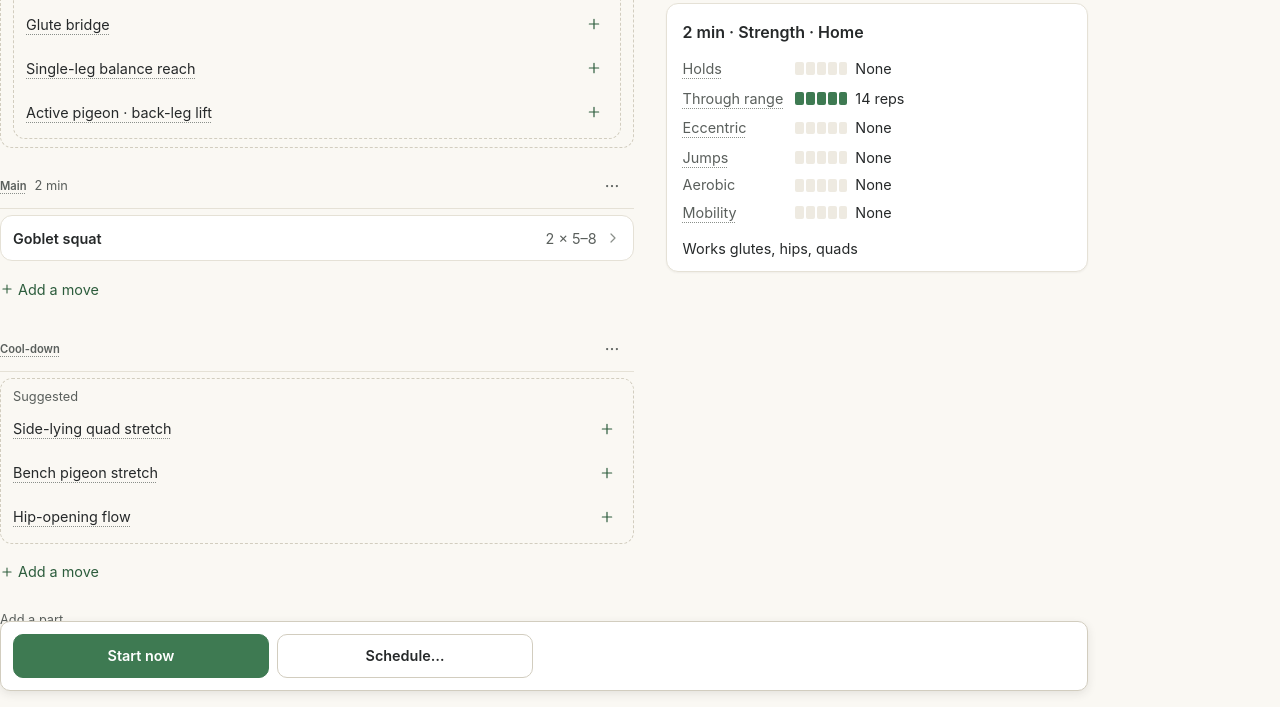
Test: focus › Move up to the very top hands focus to Move down
(page scrolled)
Click the button "Goblet squat 2 × 5–8".
click(57, 238)  # box top-left (1, 216), bottom-right (633, 260)
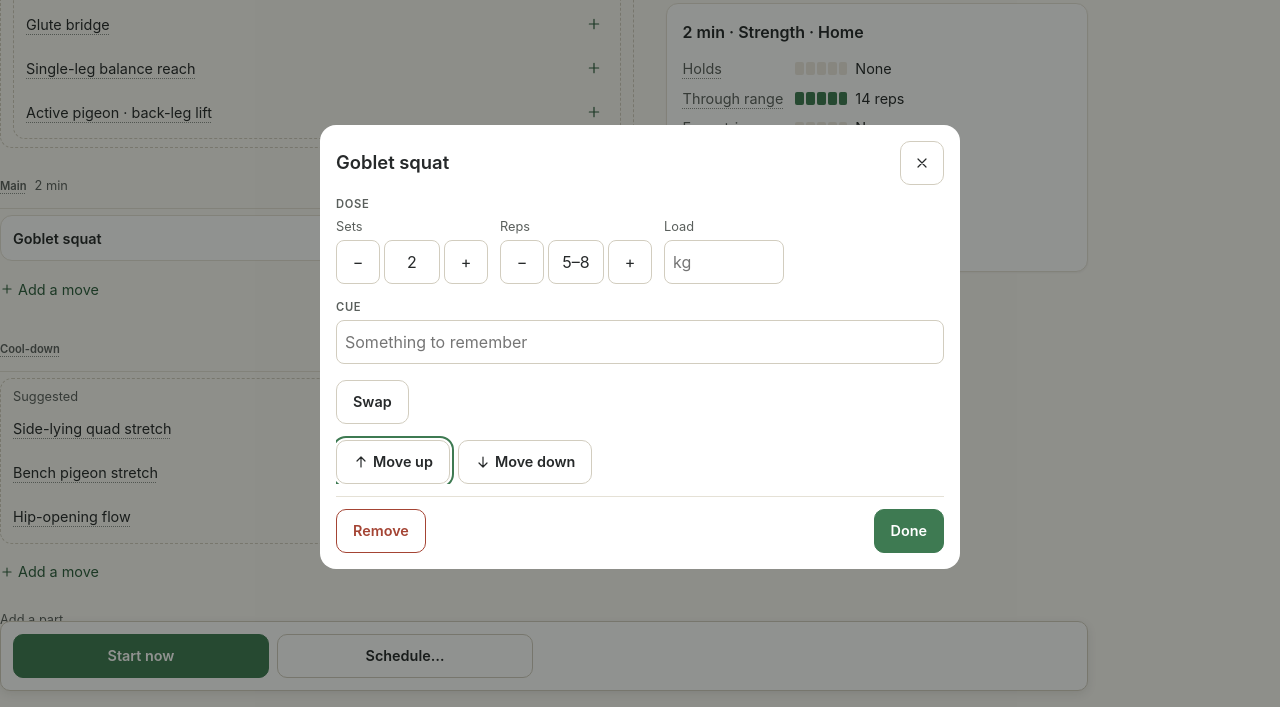
Click the button "Move up".
click(393, 462)  # box top-left (336, 440), bottom-right (450, 484)
(page scrolled)
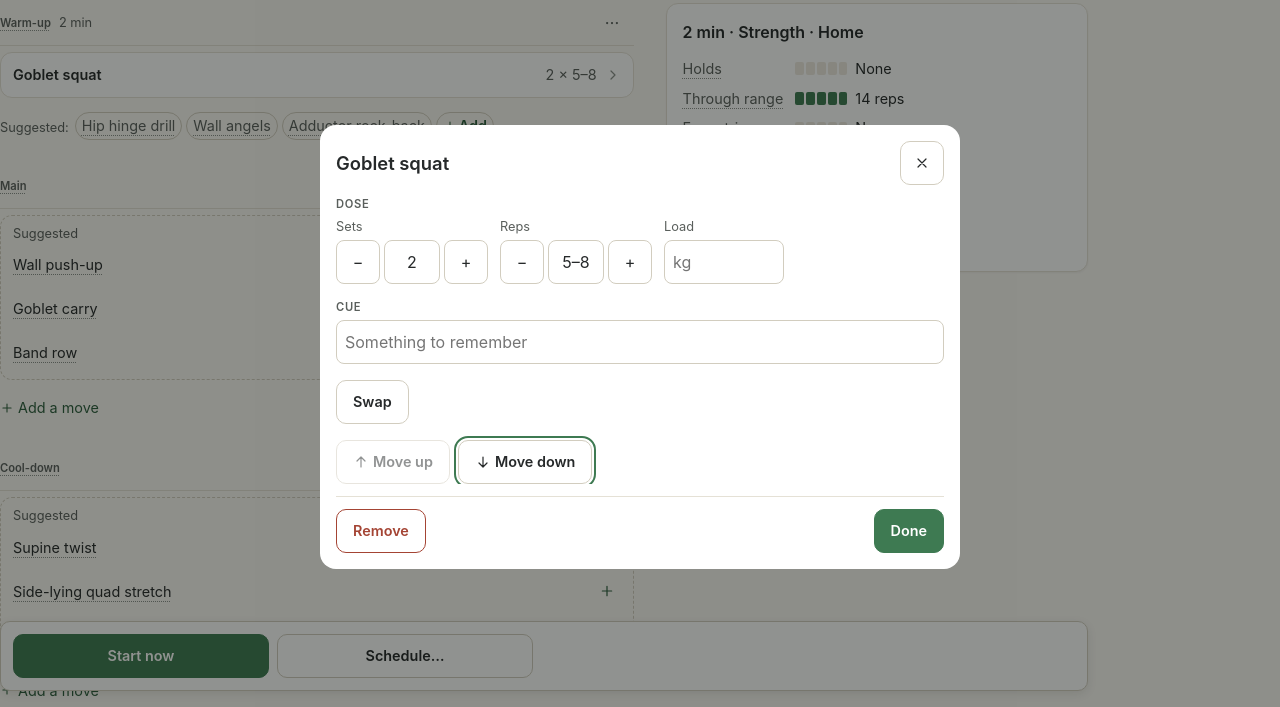
expect the button "Move up" is disabled: met, box top-left (336, 440), bottom-right (450, 484)
